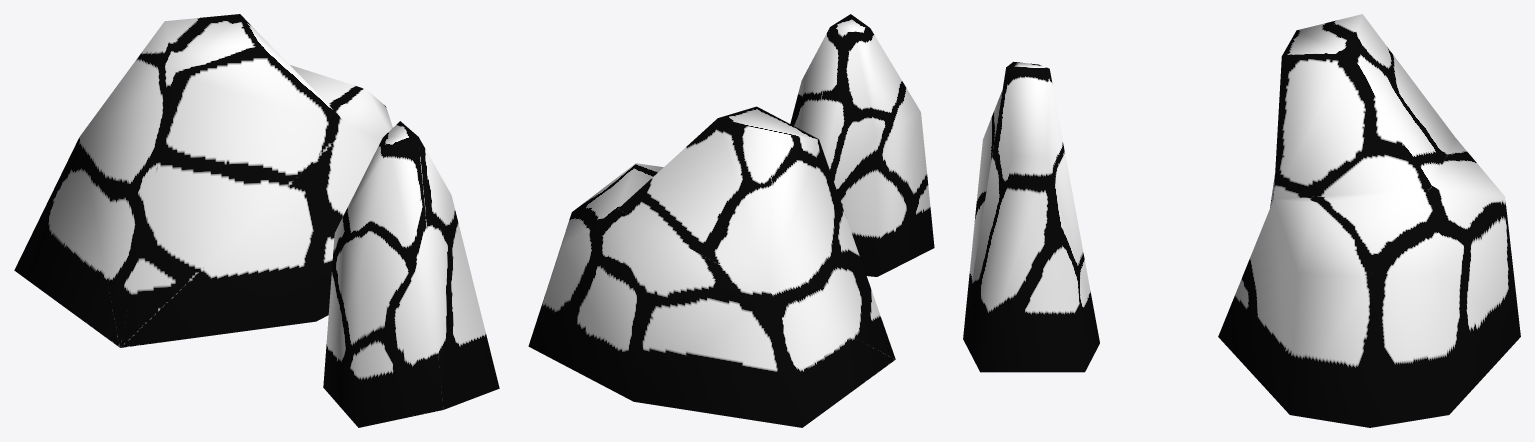
The model's file is ITEM06.fbx.
The picture shows the model from 3 angles, left to right: view 1: azimuth 30°, elevation 25°; view 2: azimuth 150°, elevation 25°; view 3: azimuth 270°, elevation 25°; orthographic projection. The views are drawn at different scales.
Visible parts, largest first — view 1: Item_06_01.002, Item_06_01.000; view 2: Item_06_01.002, Item_06_01.000; view 3: Item_06_01.002, Item_06_01.000.
Part boxes in pixels (x1,y1,x2,y2): Item_06_01.002: (14,14,392,347); Item_06_01.000: (323,121,499,427); Item_06_01.002: (528,106,895,427); Item_06_01.000: (790,14,934,276); Item_06_01.002: (1218,14,1520,427); Item_06_01.000: (963,61,1099,372).
Bounding box in the file's own units: 3.78 × 2.76 × 4.96.
Materials: 1 (1 with a texture image).
